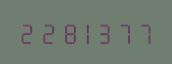eight: (55, 20, 73, 44)
one: (74, 20, 92, 44)
seven: (112, 20, 130, 44), (131, 20, 149, 44)
three: (93, 20, 111, 44)
two: (17, 20, 35, 44), (36, 20, 54, 44)
